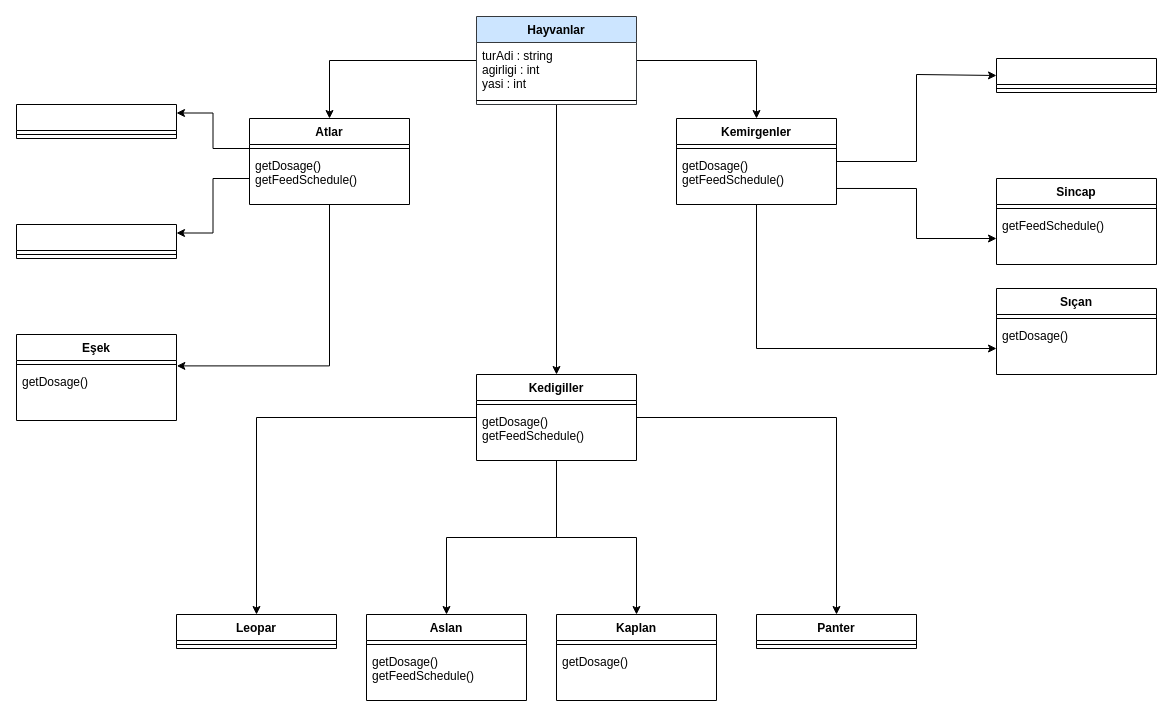
The diagram is 1173 pixels wide and 717 high, and some of its shapes have lost their labels. The shapes that lost their labels are listed below. From the top down, each one's centre as x and y in pixels, then its label:
At point 1076,75: "Kunduz".
At point 96,121: "At".
At point 96,241: "Zebra".
